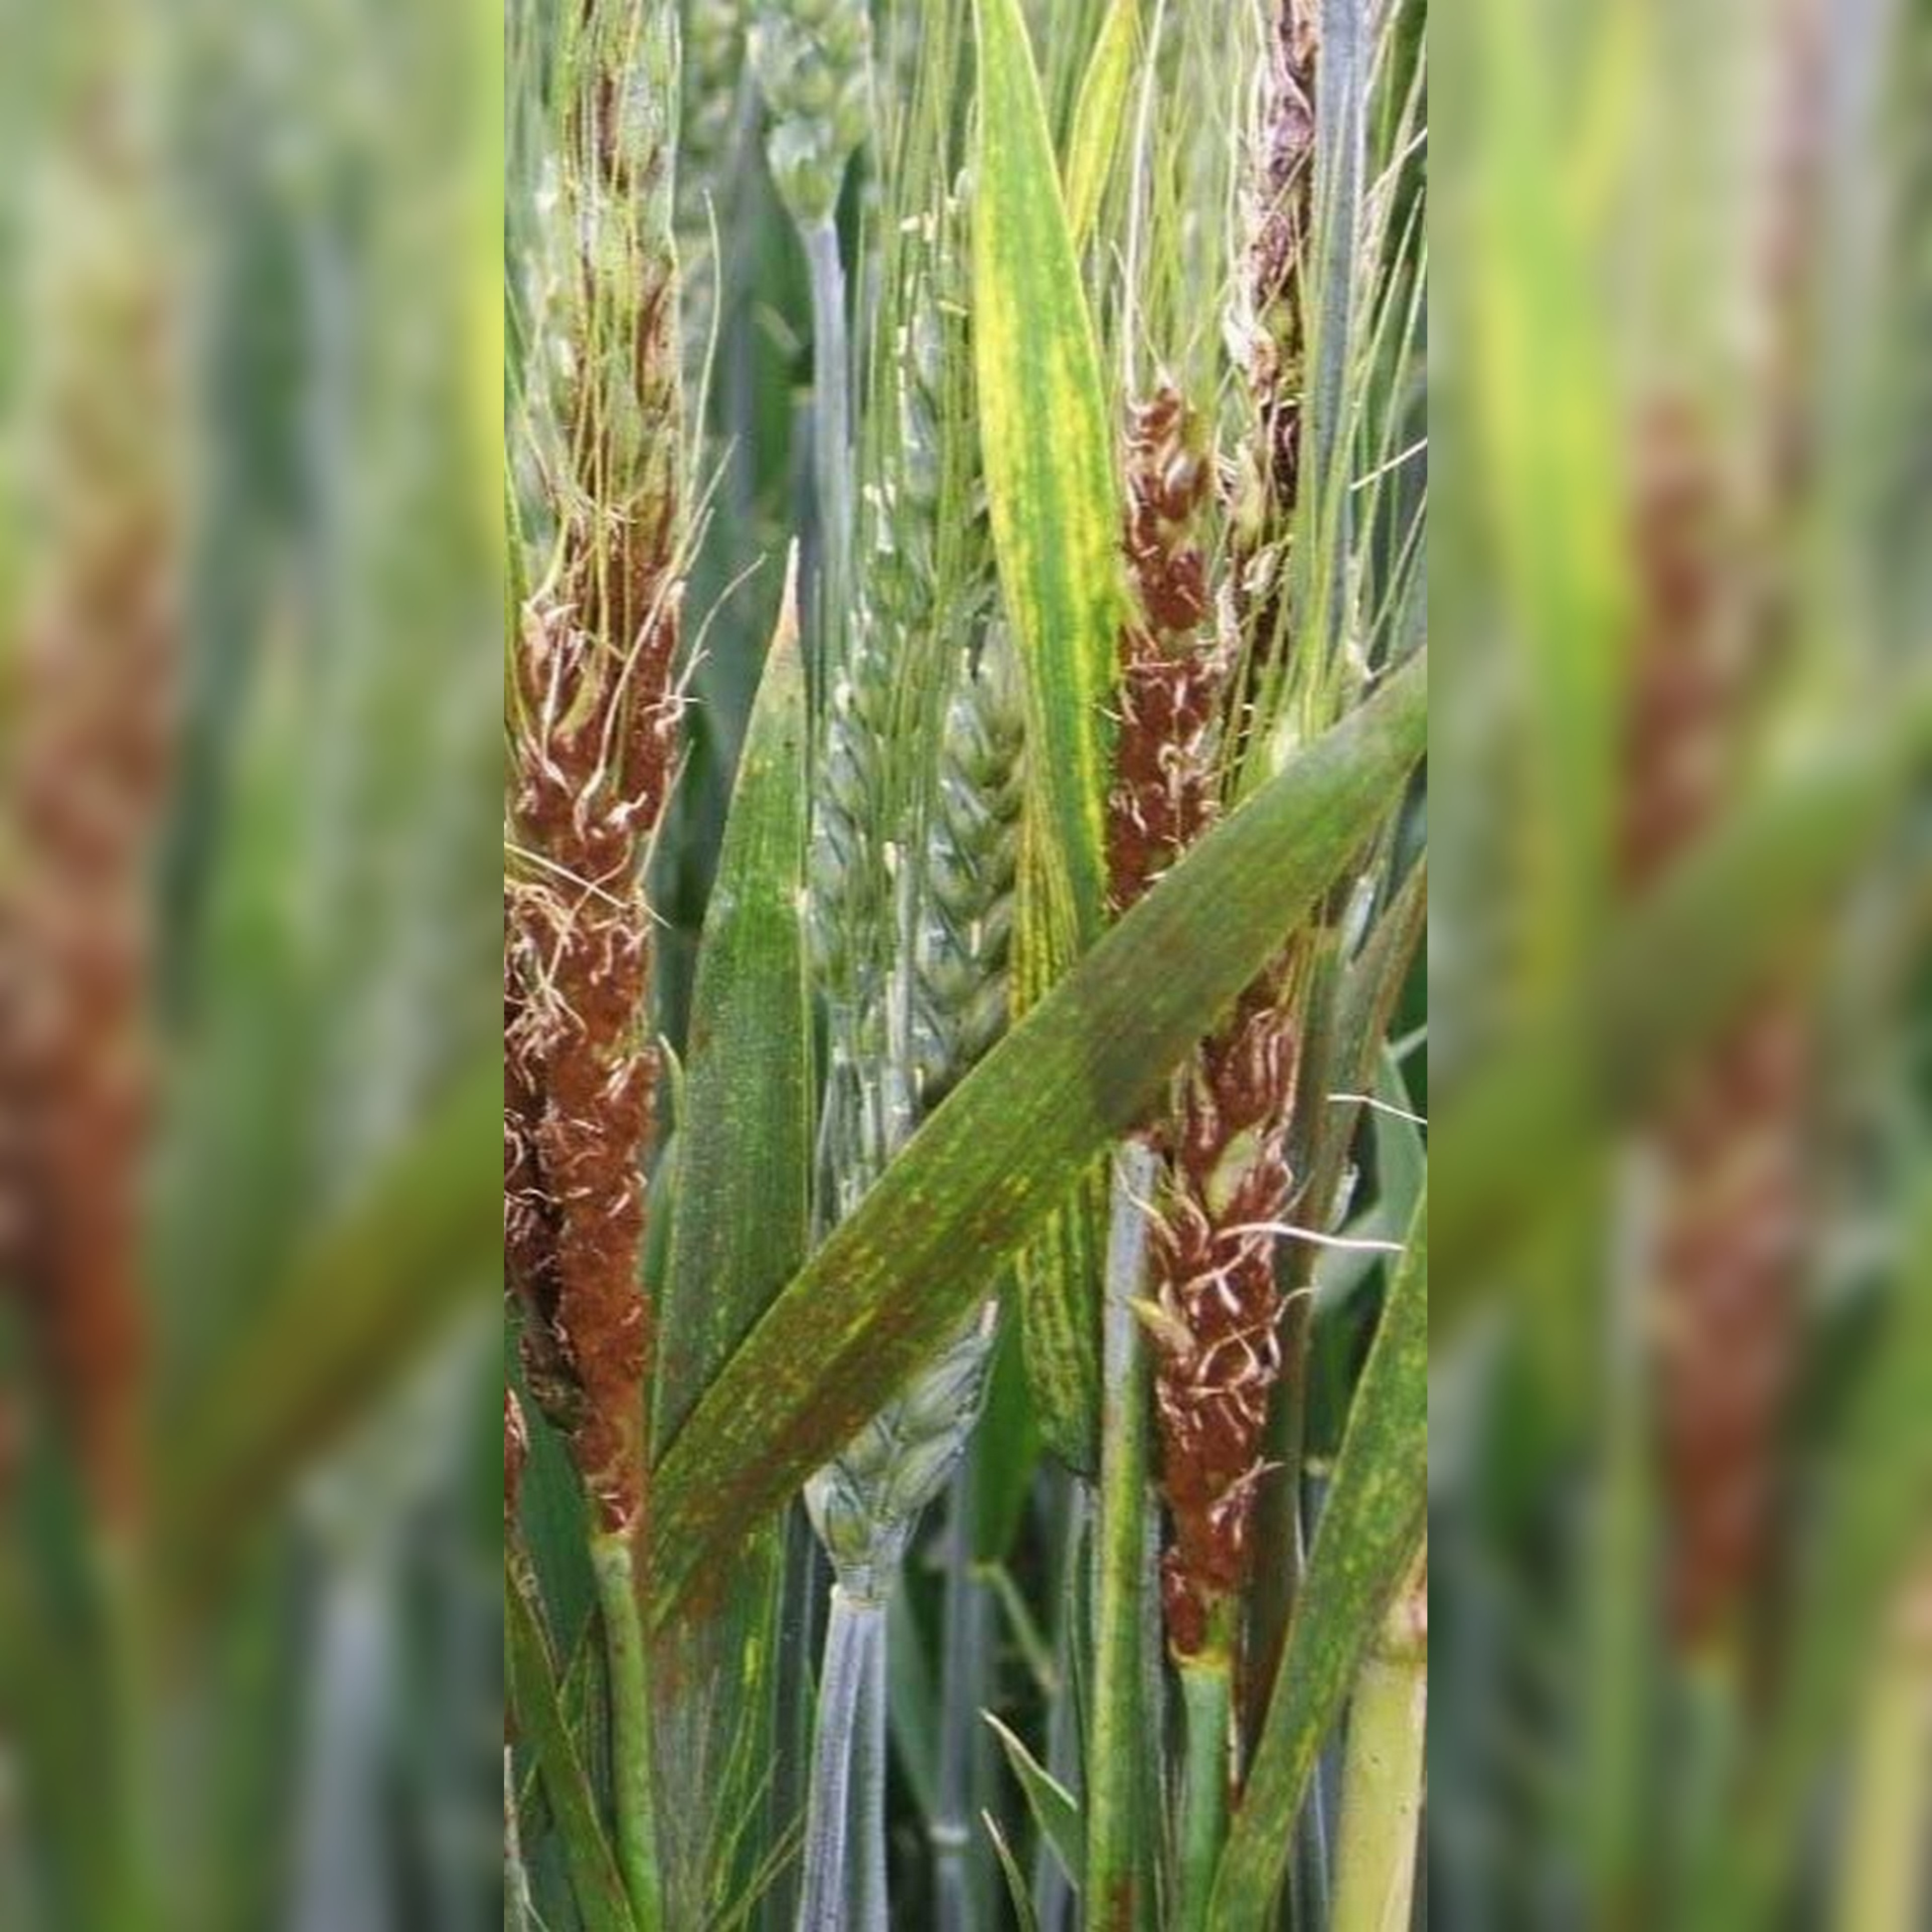Wheat Loose Smut: (525, 603, 697, 1504), (1146, 991, 1316, 1615), (1097, 410, 1207, 936)
